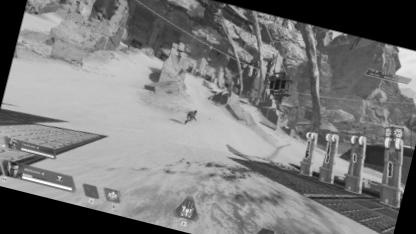Target: (182, 107, 198, 127)
